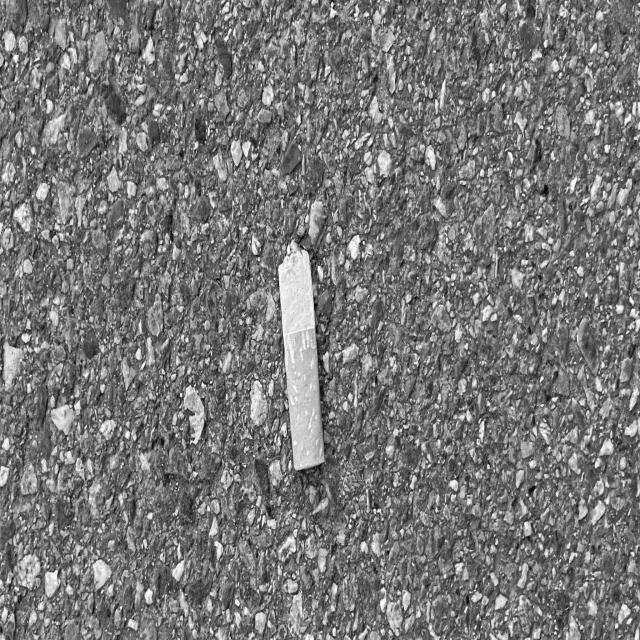other waste: (278, 237, 326, 473)
